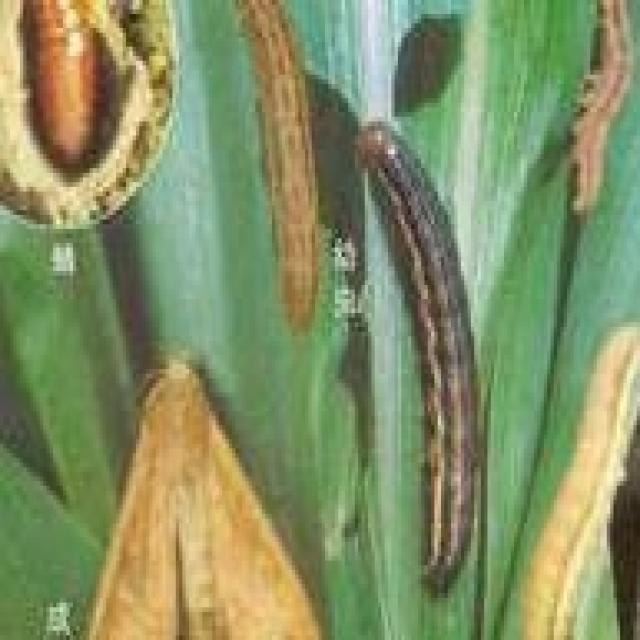army worm: (59, 335, 341, 629), (348, 116, 510, 597), (227, 1, 339, 328), (532, 298, 638, 629), (18, 1, 111, 169), (561, 1, 628, 221)
